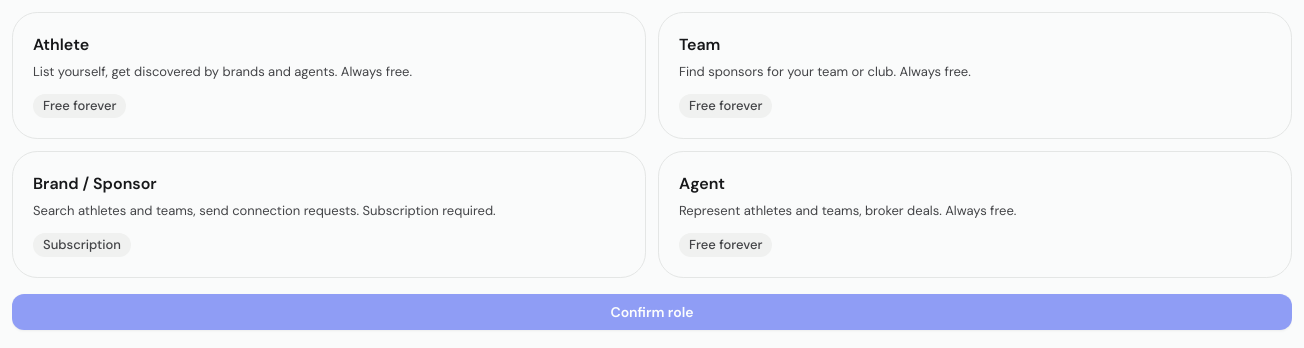
Test: RoleSelectForm › confirm button is disabled until a role is selected
Check: the button "Confirm role" is disabled, box [12,294,1292,330]
Click the button "Athlete" at coordinates (329, 76), box [12,12,646,139]
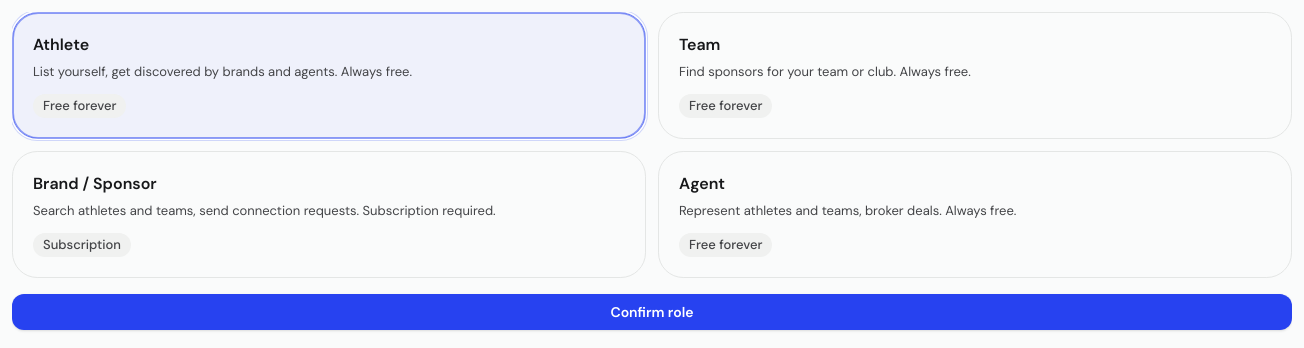
Check: the button "Confirm role" is enabled, box [12,294,1292,330]
